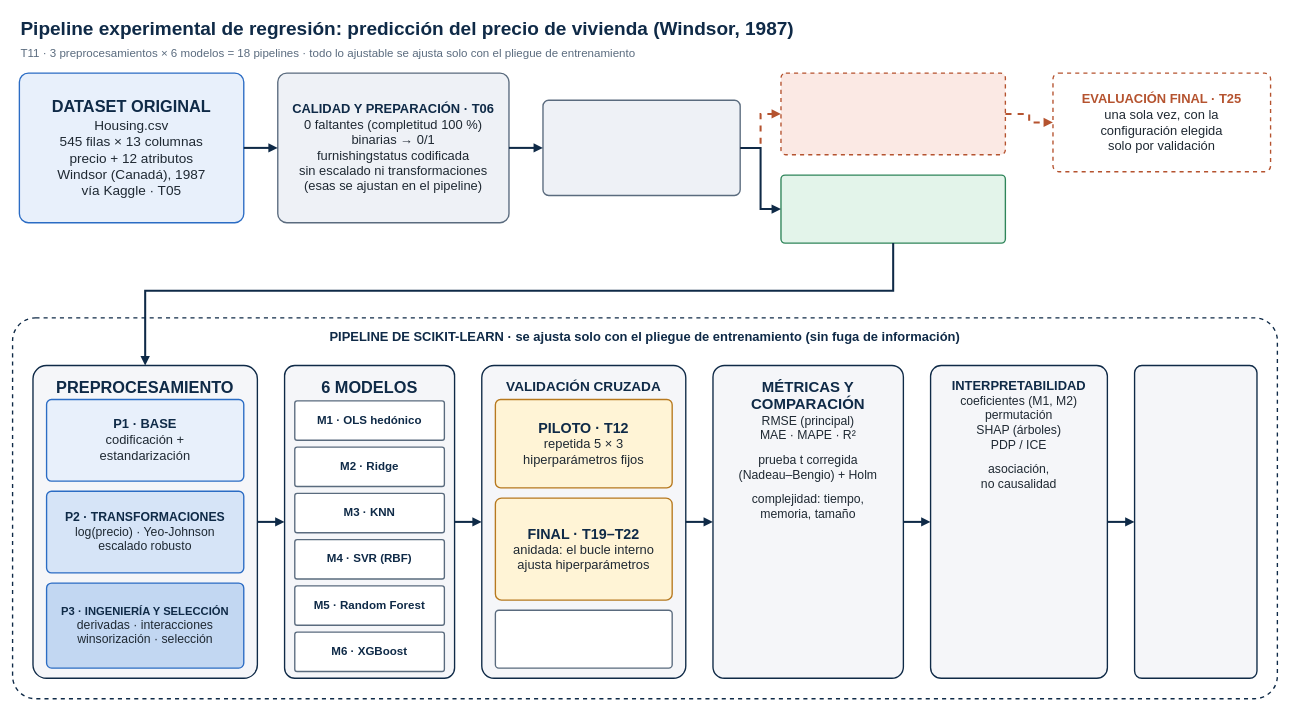
This 1289x711 diagram has some shape labels left out. Here are the shapes that lost their labels. From the top down, the centre of each, then its label:
At point (893, 113): "TEST SELLADO · 109 filas NO SE UTILIZA en validación, ajuste ni selección".
At point (641, 147): "PARTICIÓN 80/20 estratificada por quintiles de precio · semilla 5007".
At point (893, 208): "ENTRENAMIENTO · 436 filas único dato que usa el modelado".
At point (1195, 521): "RESULTADOS Y CONCLUSIONES T12: piloto T25: prueba sellada".
At point (583, 638): "mismos pliegues para los 18 pipelines".
